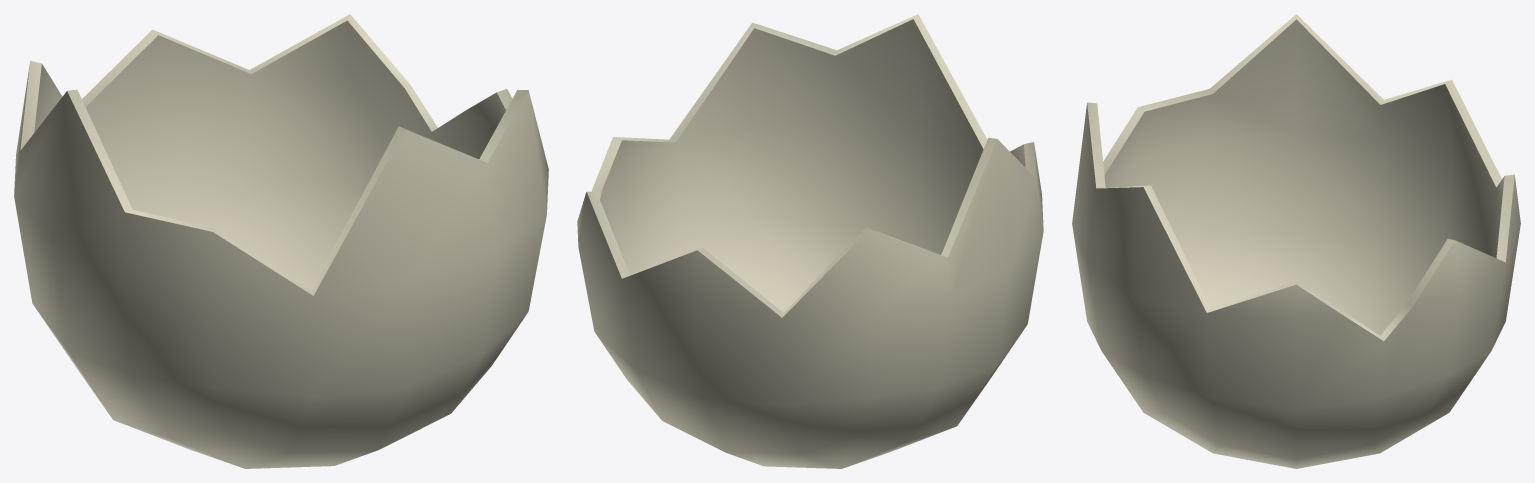
File: egg_bottom.fbx
3 views of the same model, side by side, from view 1: azimuth 30°, elevation 25°; view 2: azimuth 150°, elevation 25°; view 3: azimuth 270°, elevation 25° (orthographic). The views are drawn at different scales.
Visible parts, largest first — view 1: egg_bottom; view 2: egg_bottom; view 3: egg_bottom.
Boxes of the visible parts, <box> form: egg_bottom: <box>14,14,548,468</box>; egg_bottom: <box>577,14,1043,468</box>; egg_bottom: <box>1072,14,1520,468</box>.
Bounding box in the file's own units: 0.8785 × 0.7393 × 0.8785.
